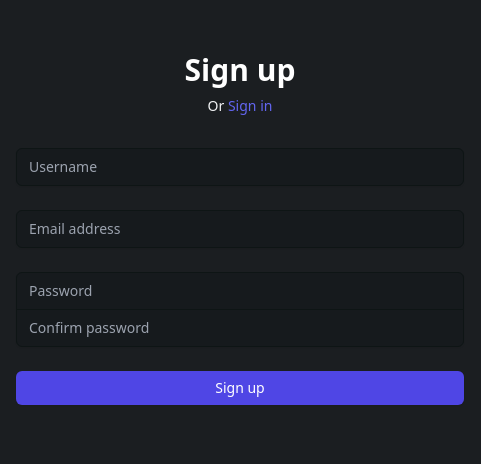
Test: Register › shows error when email address is empty
In the field with test id "username": point(240, 166) [16,148,464,186], type "foobar"
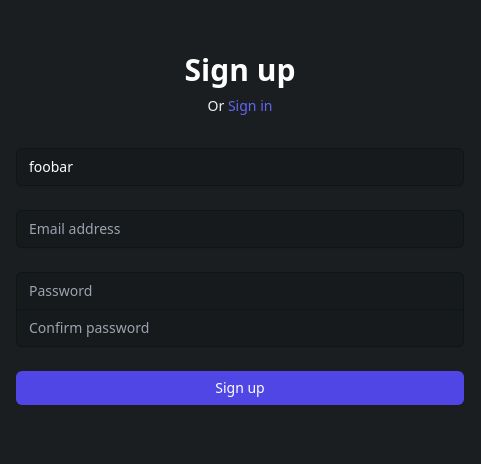
In the password field with test id "password": point(240, 290) [16,272,464,310], type "foobar"
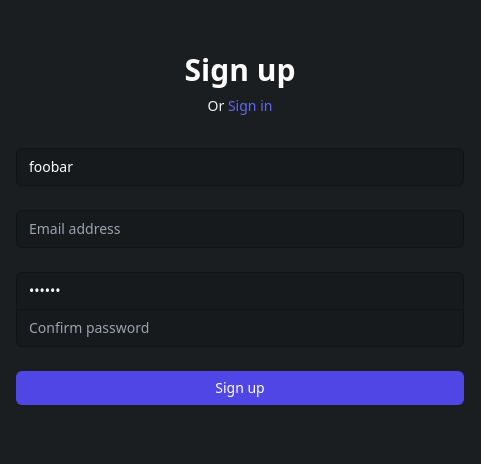
In the password field with test id "confirm-password": point(240, 328) [16,308,464,346], type "foobar"
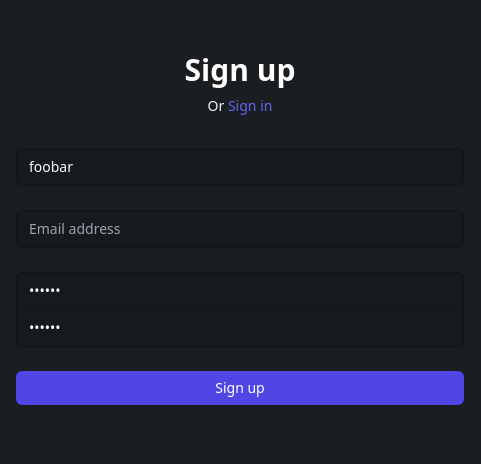
Click the button: point(240, 388) [16,370,464,404]
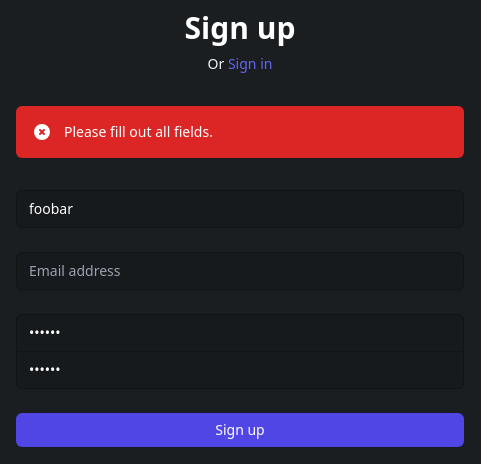
Now the heading "Please fill out all fields." is shown, box [64,122,213,142]
